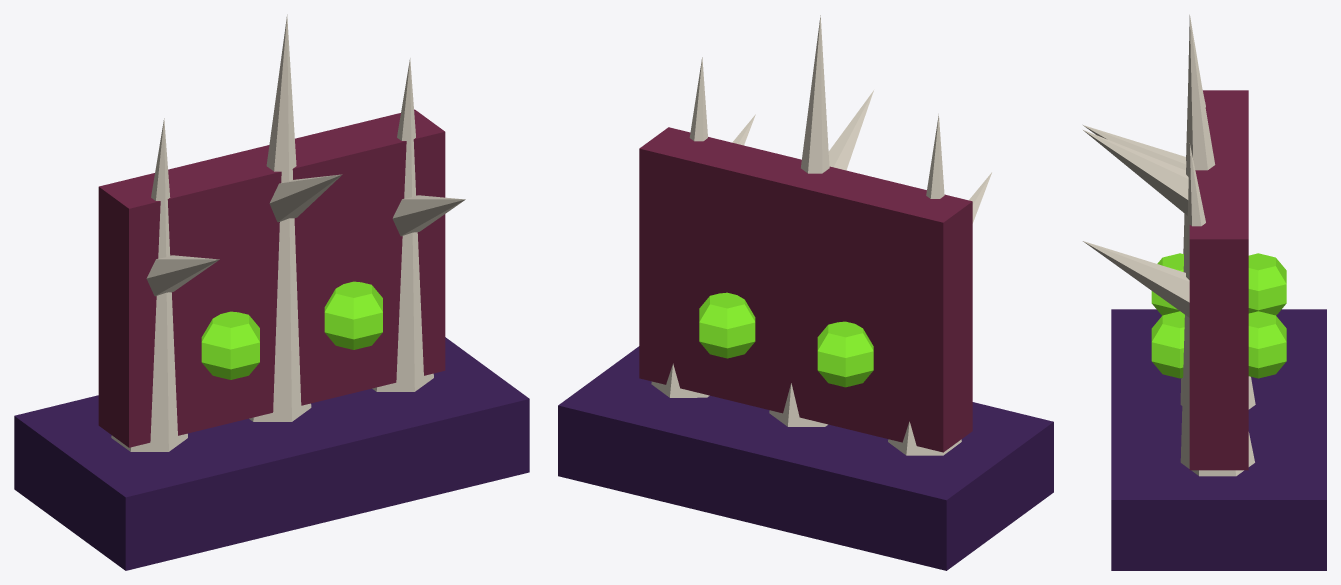
Rendered from krynn_wall.obj.
3 views of the same model, side by side, from view 1: azimuth 30°, elevation 25°; view 2: azimuth 150°, elevation 25°; view 3: azimuth 270°, elevation 25° (orthographic). The views are drawn at different scales.
Visible parts, largest first — view 1: ModelMesh; view 2: ModelMesh; view 3: ModelMesh.
Boxes of the visible parts, x1,y1,x2,y2 form: ModelMesh: (14, 14, 529, 570); ModelMesh: (558, 15, 1053, 570); ModelMesh: (1082, 14, 1326, 570).
Size of the model in its own units: 0.46 by 0.52 by 0.25.
